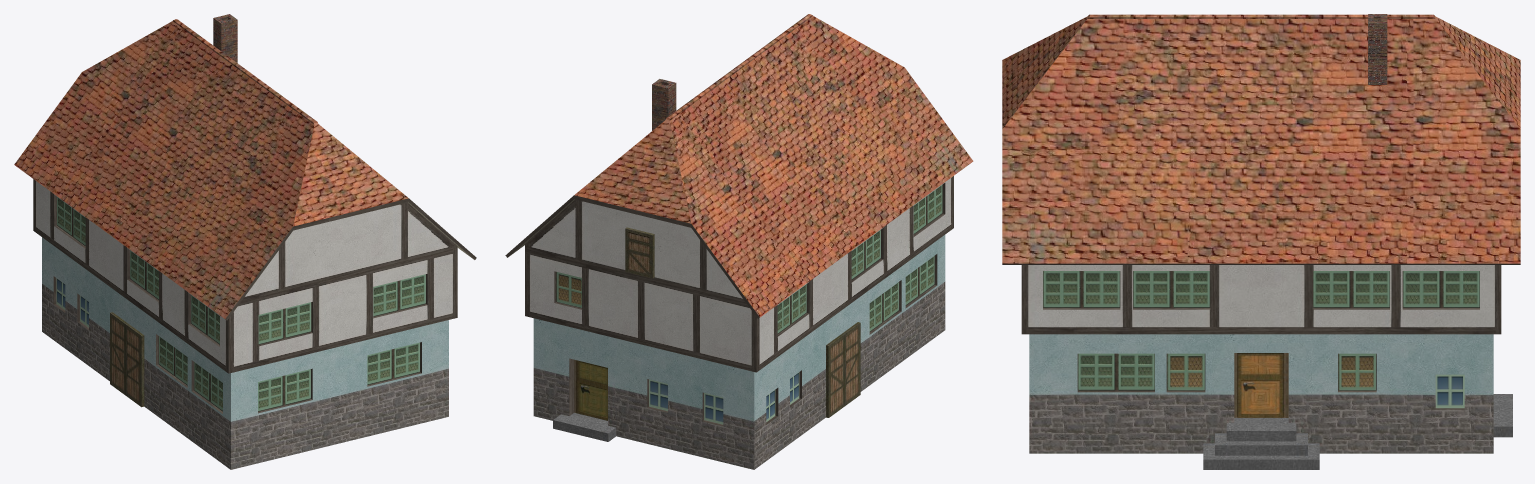
3 views of the same model, side by side, from view 1: azimuth 30°, elevation 25°; view 2: azimuth 150°, elevation 25°; view 3: azimuth 270°, elevation 25° (orthographic). The views are drawn at different scales.
Parts seen in each view (by area): view 1: RigModels_HouseBuilding; view 2: RigModels_HouseBuilding; view 3: RigModels_HouseBuilding.
Part boxes in pixels (<box>): RigModels_HouseBuilding: <box>14,14,476,469</box>; RigModels_HouseBuilding: <box>505,14,973,469</box>; RigModels_HouseBuilding: <box>1002,14,1520,469</box>.
Bounding box in the file's own units: 1065 × 1485 × 1219.
1 material, 1 textured.
